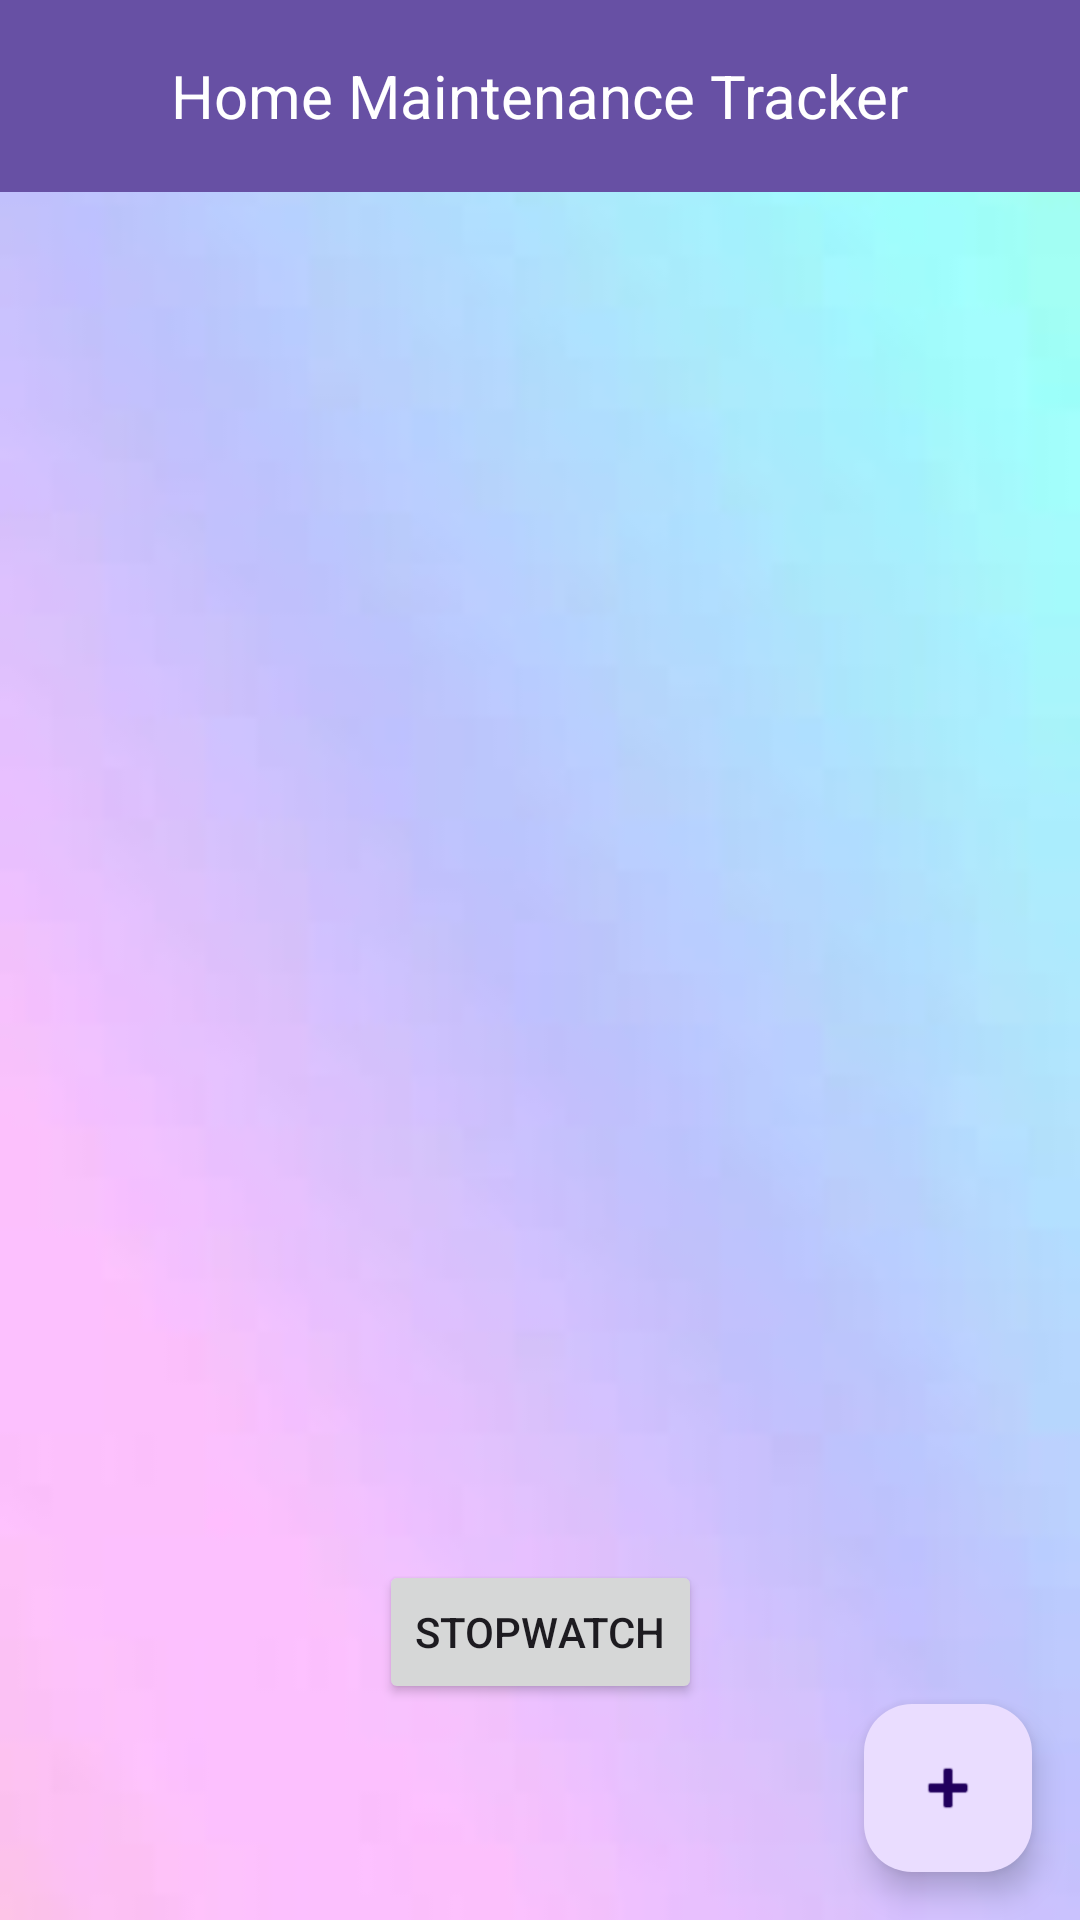

Where to tap for icons on this 1080w x 1920h app screen, as (x=x, y=y):
Add Task: (x=948, y=1788)
